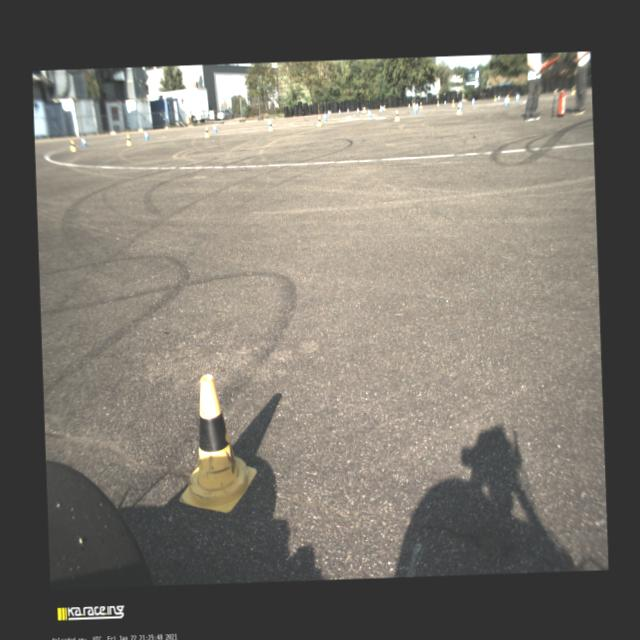blue_cone: (412, 104, 417, 113), (144, 130, 148, 140), (322, 112, 327, 120), (367, 109, 372, 117), (212, 124, 216, 132), (503, 97, 507, 105), (82, 138, 85, 146), (356, 108, 359, 114), (460, 101, 462, 109), (329, 110, 332, 115), (380, 105, 382, 112), (416, 102, 418, 109), (338, 108, 340, 114), (472, 98, 474, 104), (516, 94, 518, 100), (328, 110, 330, 115), (346, 108, 348, 113), (408, 104, 410, 108)
yellow_cone: (175, 372, 257, 514), (70, 140, 76, 152), (126, 134, 131, 146), (204, 126, 209, 138), (316, 116, 322, 126), (456, 104, 462, 114), (394, 110, 399, 120), (268, 120, 272, 130), (451, 99, 454, 106), (361, 106, 364, 112), (419, 102, 422, 108), (436, 100, 439, 106), (383, 105, 385, 110), (494, 96, 496, 100)
